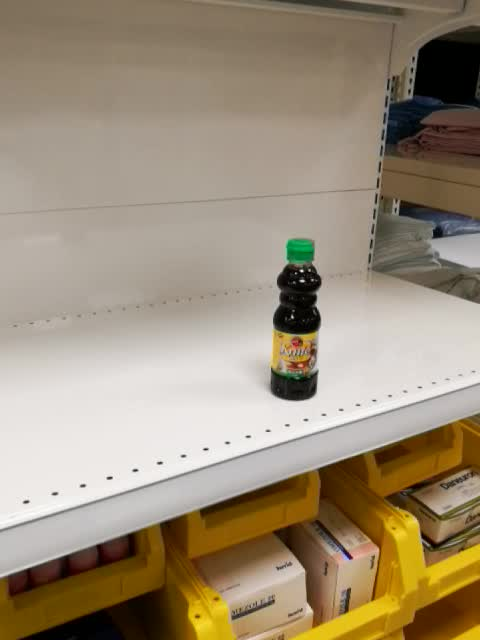cookingoil: (268, 235, 323, 402)
